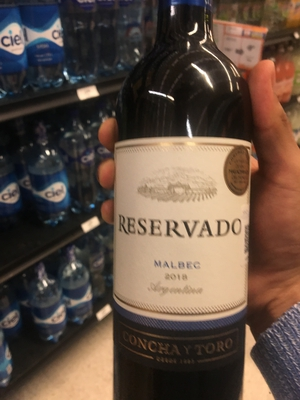reservado malbec: (108, 16, 256, 398)
